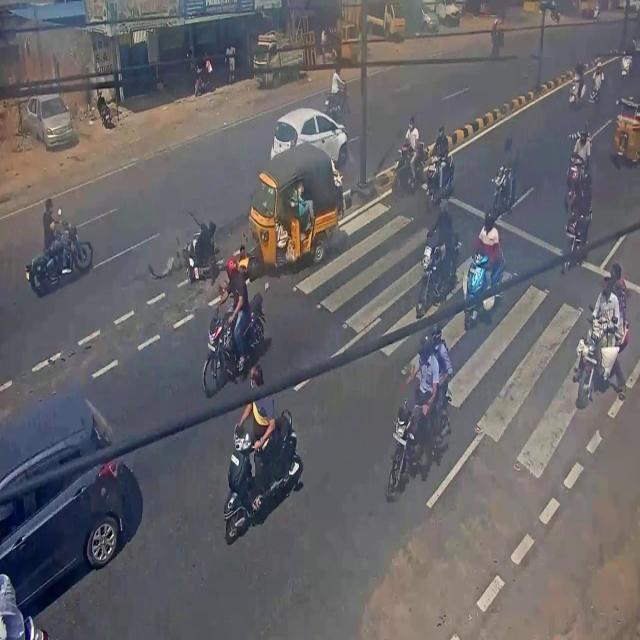accident: (146, 210, 223, 290)
